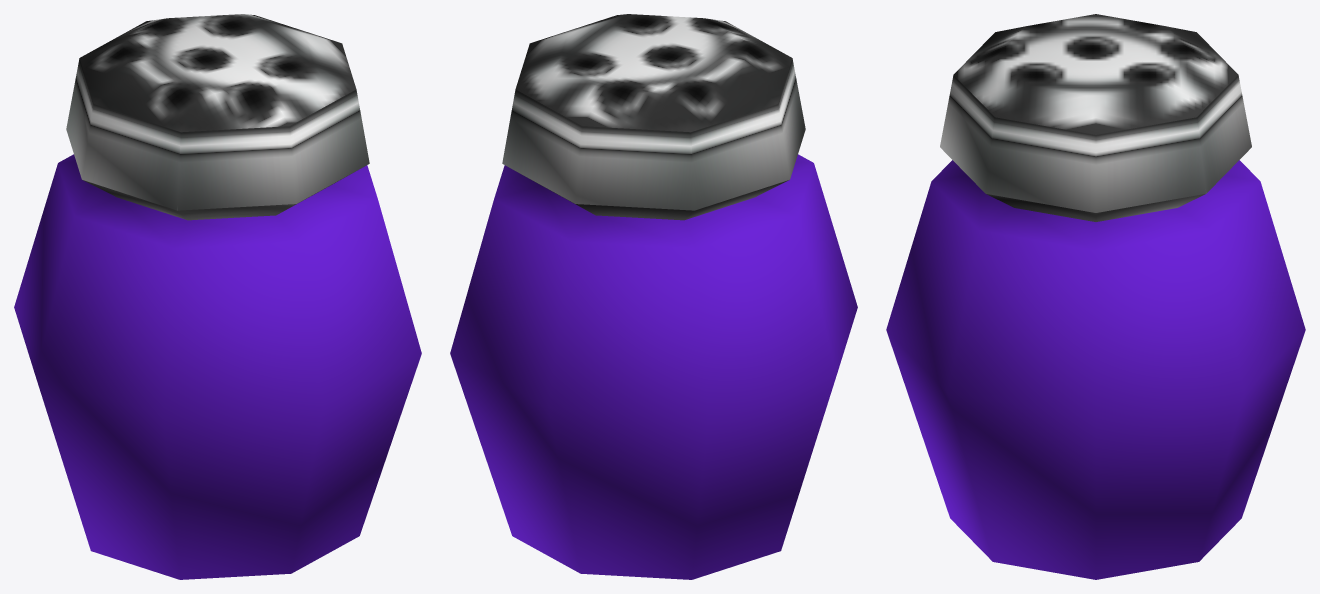
Rendered from Shaker_C.FBX.
The picture shows the model from 3 angles, left to right: view 1: azimuth 30°, elevation 25°; view 2: azimuth 150°, elevation 25°; view 3: azimuth 270°, elevation 25°; orthographic projection.
Visible parts, largest first — view 1: Shaker; view 2: Shaker; view 3: Shaker.
Part boxes in pixels (box(x1,y1,x2,y2)): Shaker: box(14, 14, 421, 579); Shaker: box(450, 14, 857, 579); Shaker: box(886, 14, 1305, 579).
Bounding box in the file's own units: 22.58 × 27.47 × 22.58.
